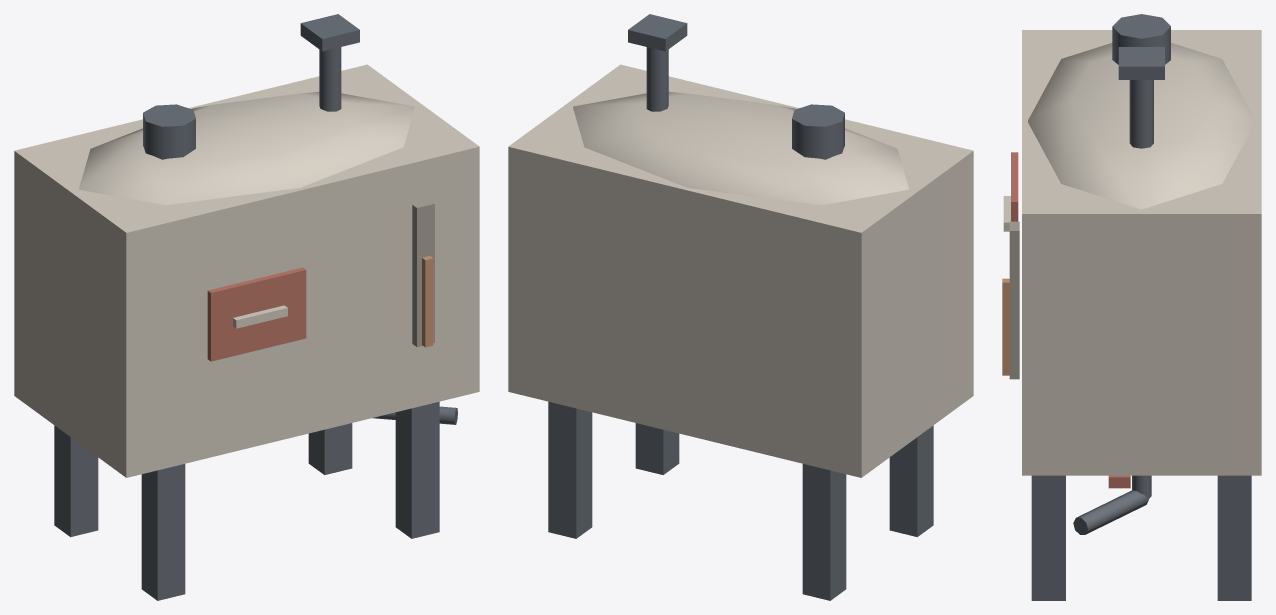
File: komachi-kerosene-tank.glb
The picture shows the model from 3 angles, left to right: view 1: azimuth 30°, elevation 25°; view 2: azimuth 150°, elevation 25°; view 3: azimuth 270°, elevation 25°; orthographic projection. The views are drawn at different scales.
Parts seen in each view (by area): view 1: Kerosene_Tank; view 2: Kerosene_Tank; view 3: Kerosene_Tank.
Part boxes in pixels (x1=…): Kerosene_Tank: x1=14, y1=14, x2=479, y2=600; Kerosene_Tank: x1=508, y1=14, x2=973, y2=600; Kerosene_Tank: x1=1002, y1=14, x2=1261, y2=600.
Bounding box in the file's own units: 0.1826 × 0.232 × 0.106.
